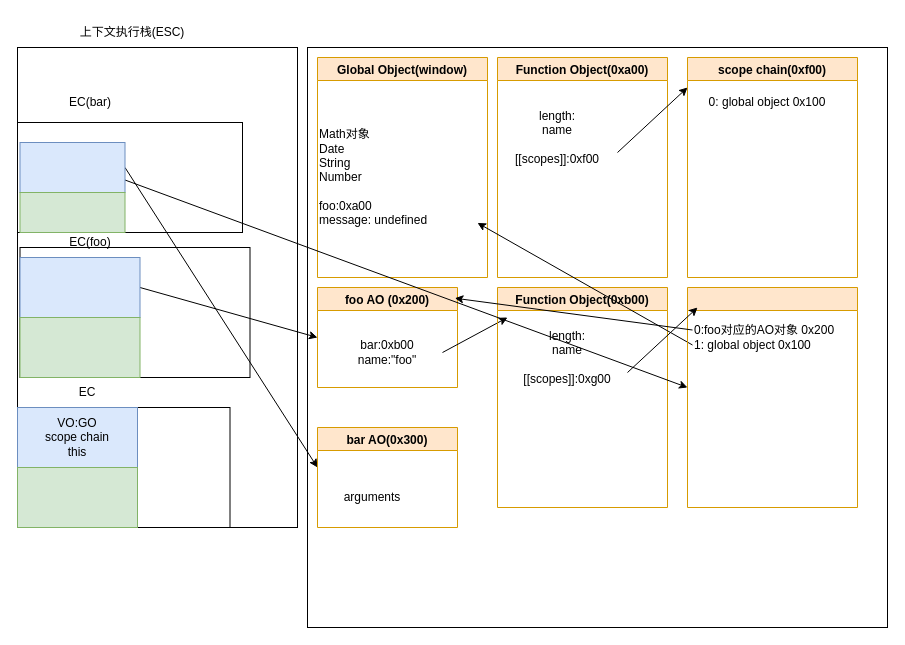
Some shapes in this 905 by 645 pixel diagram are drawn without their labels. Here are the shapes that lost their labels. From the top down, the centre of each, then its label:
point (72, 167): VO:AO scope chain: 0xg00
point (72, 212): log(name)
point (79, 287): VO:AO scope chain:
point (772, 397): scope chain(0xg00)
